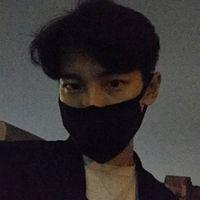WRONG: (58, 62, 152, 156)
